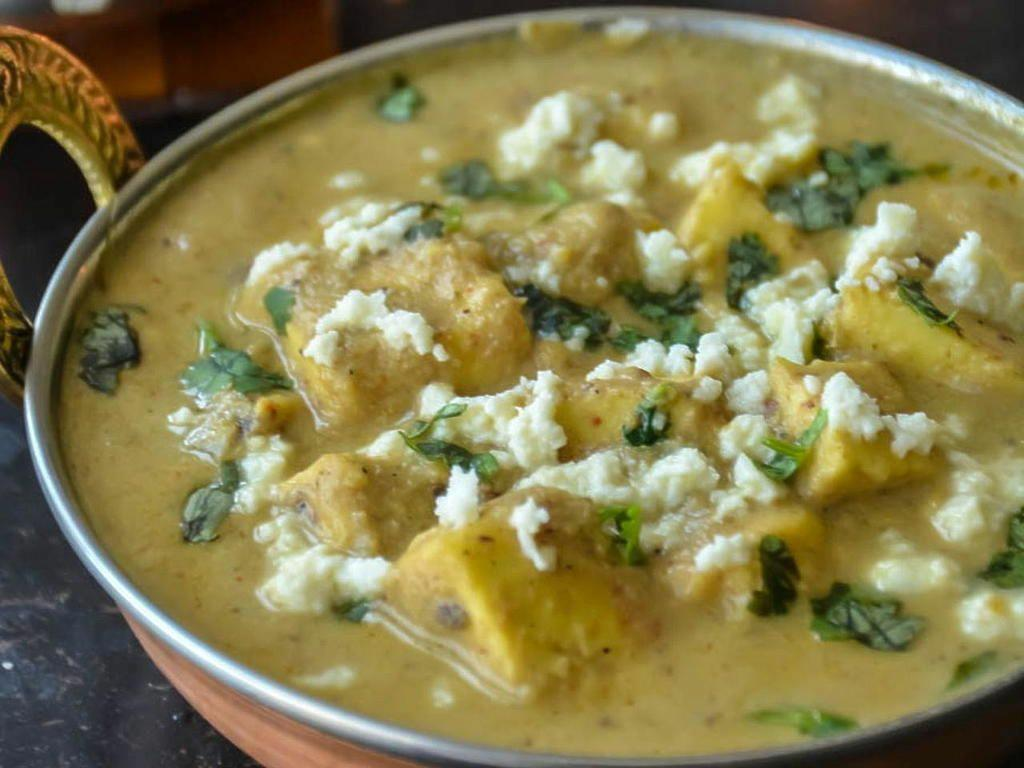ShahiPaneer: (61, 8, 1024, 768)
